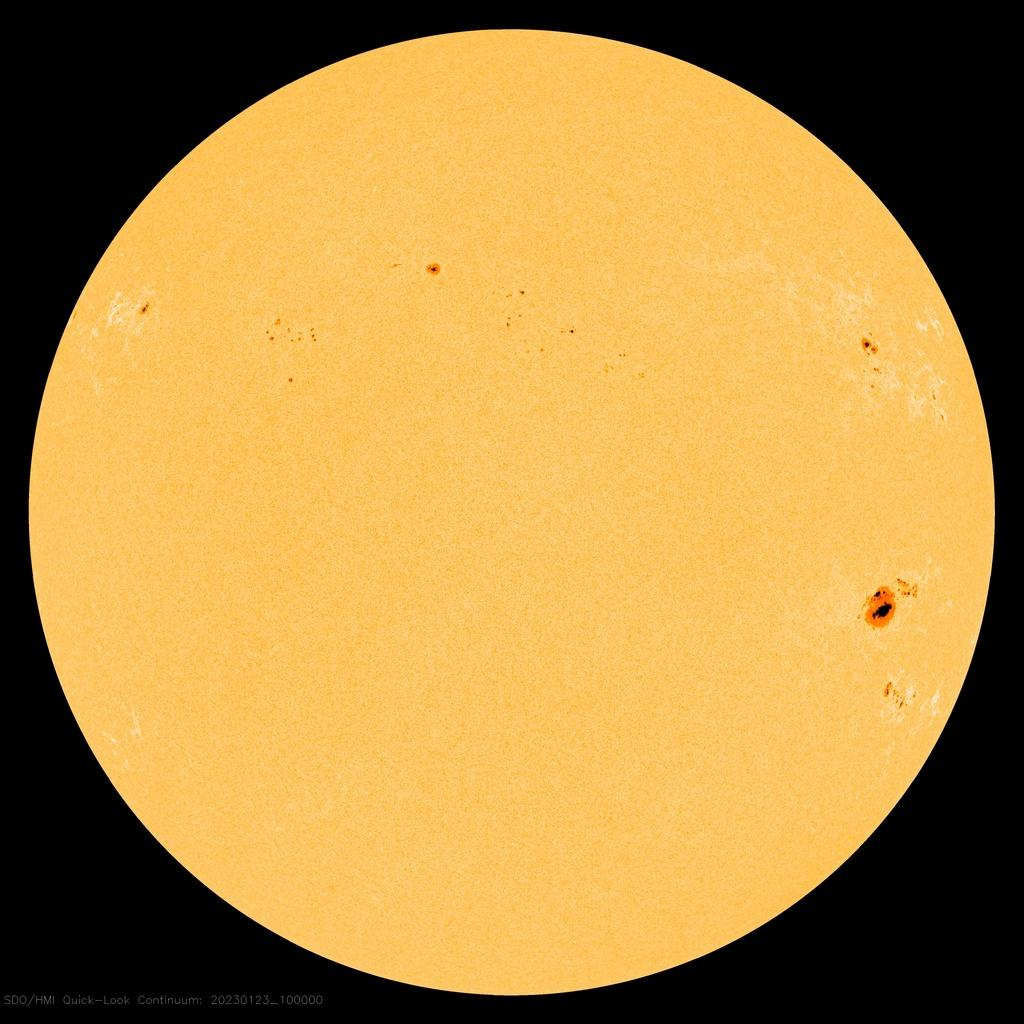flare: (482, 278, 585, 362), (260, 310, 328, 392), (855, 567, 928, 638), (852, 324, 890, 402), (877, 671, 926, 720), (390, 254, 446, 290), (131, 292, 158, 320)
